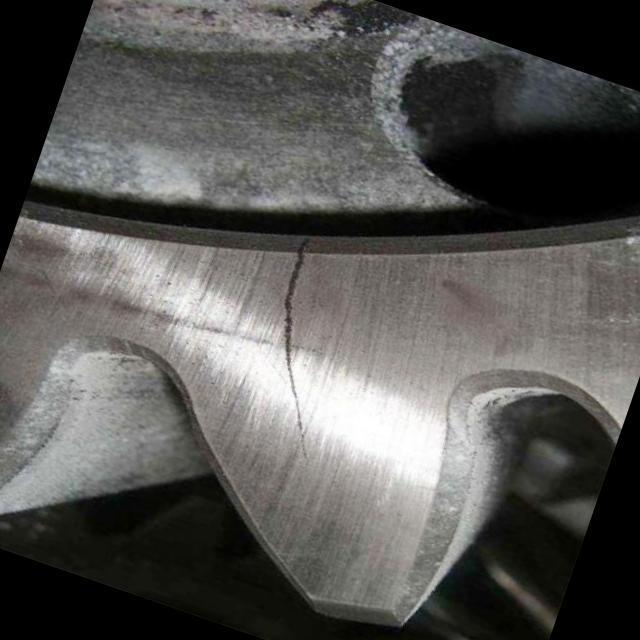defect: (277, 232, 317, 465)
